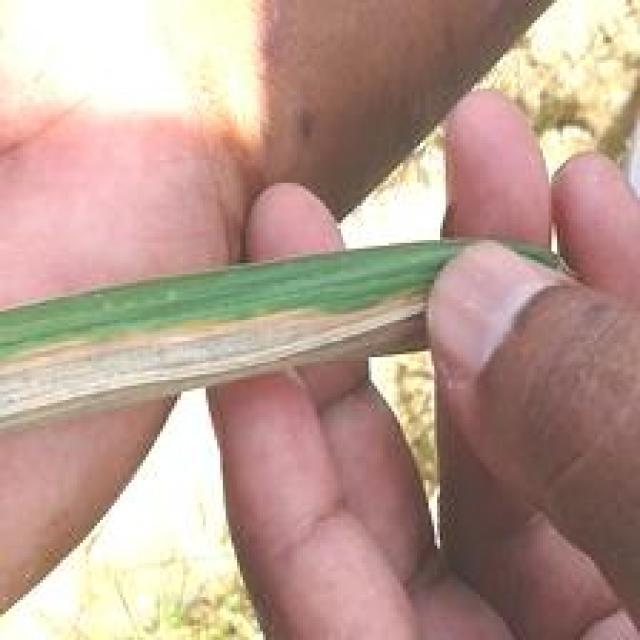Rice_Bacterial_Blight: (23, 314, 520, 397)
